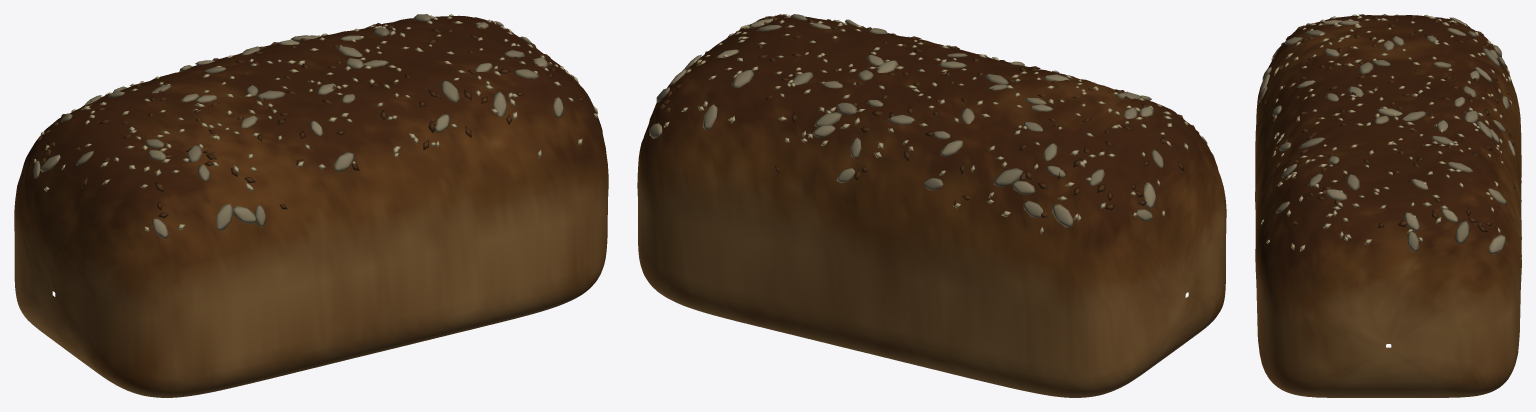
File: voll-gut-500g.glb
The picture shows the model from 3 angles, left to right: view 1: azimuth 30°, elevation 25°; view 2: azimuth 150°, elevation 25°; view 3: azimuth 270°, elevation 25°; orthographic projection. The views are drawn at different scales.
Visible parts, largest first — view 1: voll-gut-500g; view 2: voll-gut-500g; view 3: voll-gut-500g.
Part boxes in pixels (bbox=[...]): voll-gut-500g: bbox=[14, 14, 608, 397]; voll-gut-500g: bbox=[637, 14, 1226, 397]; voll-gut-500g: bbox=[1255, 14, 1521, 397].
Bounding box in the file's own units: 0.2 × 0.0907 × 0.1.
